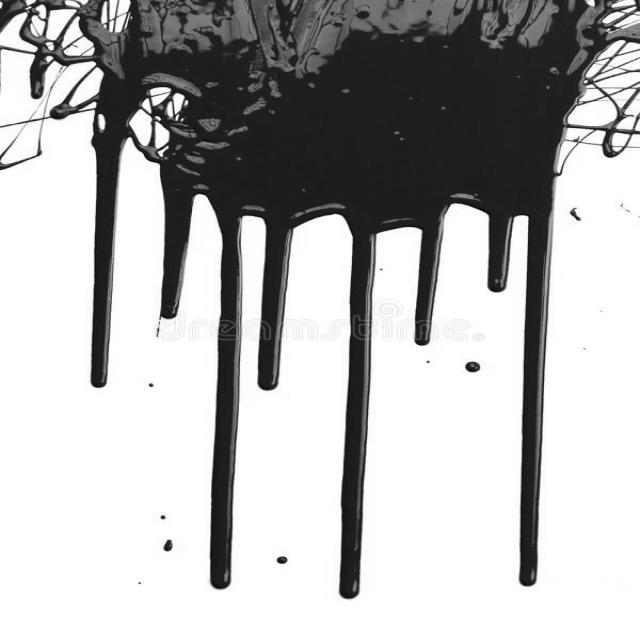paint drips: (21, 25, 640, 607)
